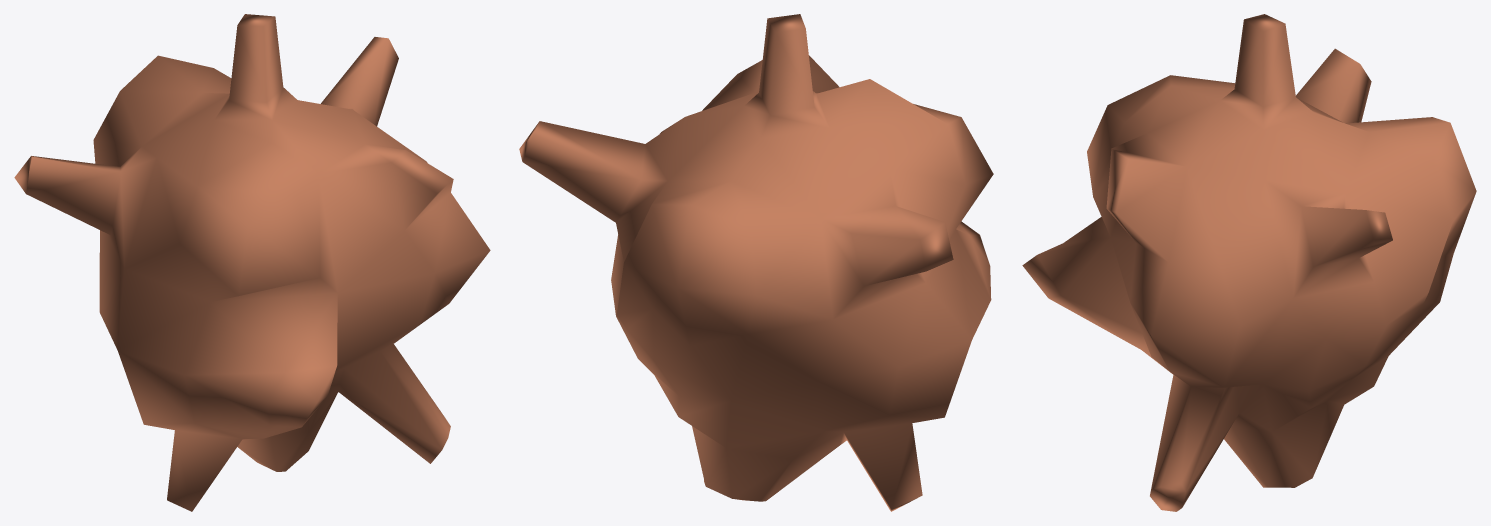
The model's file is Explodion.fbx.
3 renders of one model, left to right at view 1: azimuth 30°, elevation 25°; view 2: azimuth 150°, elevation 25°; view 3: azimuth 270°, elevation 25°, orthographic. The views are drawn at different scales.
Parts seen in each view (by area): view 1: Explodion; view 2: Explodion; view 3: Explodion.
Boxes of the visible parts, x1,y1,x2,y2 form: Explodion: [14, 14, 490, 511]; Explodion: [519, 14, 993, 511]; Explodion: [1022, 14, 1476, 511].
Bounding box in the file's own units: 96.86 × 108 × 98.29.
